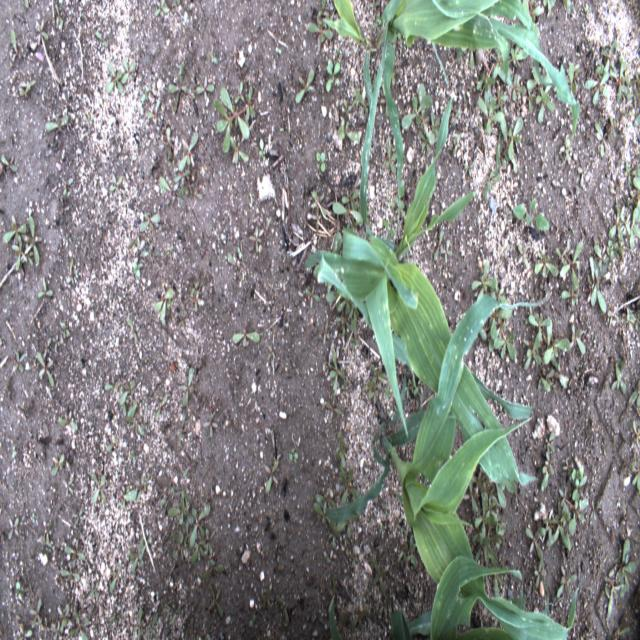crop: (303, 92, 538, 488), (317, 294, 580, 639), (322, 0, 580, 244), (390, 554, 550, 639), (327, 594, 342, 640)
weed: (213, 86, 255, 154), (313, 231, 342, 292), (608, 538, 636, 597), (559, 486, 589, 536), (488, 310, 517, 360), (545, 500, 571, 551), (474, 43, 494, 109), (490, 285, 514, 340), (512, 197, 550, 231), (474, 490, 496, 548), (558, 238, 582, 289), (484, 133, 501, 204), (401, 92, 432, 130), (484, 473, 517, 508), (499, 115, 524, 161), (168, 61, 189, 114), (478, 97, 506, 135), (418, 83, 435, 145), (21, 216, 42, 265), (306, 14, 333, 52), (188, 504, 210, 550), (604, 576, 628, 618), (610, 57, 630, 104), (584, 69, 609, 106), (543, 316, 560, 370), (590, 257, 606, 314), (232, 316, 260, 348), (535, 80, 555, 124), (170, 481, 193, 519), (330, 348, 348, 396), (526, 68, 550, 104), (338, 468, 360, 507), (475, 534, 503, 564), (544, 332, 570, 364), (153, 284, 173, 325), (159, 176, 186, 206), (521, 332, 542, 370), (470, 261, 496, 291), (162, 532, 188, 562), (313, 502, 337, 534), (2, 215, 27, 245), (371, 557, 389, 597), (333, 202, 364, 225), (180, 132, 198, 171), (388, 178, 406, 216), (462, 475, 480, 513), (523, 0, 540, 39), (64, 540, 86, 570), (474, 286, 486, 341), (582, 256, 596, 303), (36, 351, 54, 387), (296, 68, 314, 104), (600, 39, 618, 75), (608, 206, 624, 246), (228, 134, 249, 164), (11, 234, 28, 271), (557, 565, 576, 598), (129, 535, 145, 574), (525, 527, 543, 561), (105, 62, 124, 94), (539, 506, 555, 544), (70, 610, 90, 640), (549, 363, 569, 393), (528, 314, 551, 340), (179, 367, 194, 406), (492, 275, 509, 309), (90, 471, 106, 507), (535, 253, 558, 278), (489, 91, 508, 121), (352, 86, 367, 123), (167, 501, 190, 525), (174, 158, 190, 192), (568, 322, 585, 354), (594, 122, 609, 158), (196, 75, 215, 103), (506, 74, 525, 102), (335, 309, 353, 338), (509, 42, 529, 68), (315, 488, 335, 514), (178, 167, 194, 199), (344, 524, 360, 556), (208, 584, 223, 618), (202, 559, 224, 582), (264, 460, 278, 496), (593, 243, 607, 279), (57, 603, 72, 636), (190, 539, 208, 566), (561, 280, 579, 307), (385, 142, 400, 174), (326, 58, 340, 92), (492, 45, 505, 81), (626, 379, 640, 412), (120, 57, 136, 85), (612, 362, 626, 394), (45, 114, 68, 133), (326, 285, 344, 309), (61, 566, 80, 588), (338, 124, 360, 143), (120, 378, 136, 404), (342, 188, 358, 214), (491, 570, 504, 602), (162, 126, 172, 167), (630, 208, 640, 249), (630, 453, 640, 494), (58, 410, 78, 430), (310, 191, 326, 216), (139, 212, 160, 231), (187, 290, 205, 312), (29, 598, 42, 628), (203, 412, 218, 438), (572, 475, 587, 501), (120, 484, 136, 508), (528, 0, 544, 24), (351, 608, 368, 630), (36, 18, 49, 46), (109, 564, 122, 592), (276, 594, 289, 622), (626, 82, 640, 108), (471, 469, 485, 495), (10, 29, 21, 62), (126, 416, 144, 436), (336, 432, 346, 468), (133, 607, 144, 639), (453, 133, 464, 165), (126, 317, 139, 344), (154, 395, 168, 420), (136, 474, 148, 503), (568, 63, 575, 112), (476, 72, 495, 90), (542, 450, 555, 476), (66, 257, 78, 285), (484, 499, 498, 523), (534, 558, 545, 588), (371, 364, 386, 386), (440, 239, 453, 264), (204, 528, 216, 555), (250, 227, 262, 254), (325, 400, 342, 419), (50, 453, 64, 476), (258, 215, 272, 238), (306, 285, 320, 308), (37, 277, 53, 297), (524, 83, 534, 115), (524, 305, 540, 325), (41, 519, 53, 545), (493, 511, 505, 537), (433, 230, 443, 261), (147, 612, 158, 640), (22, 241, 34, 266), (8, 516, 20, 541), (110, 603, 122, 628), (630, 418, 640, 448), (406, 537, 416, 567), (337, 293, 352, 313), (105, 375, 118, 398), (349, 302, 359, 331), (154, 0, 171, 17), (606, 240, 623, 257), (109, 174, 122, 196), (147, 99, 160, 121), (418, 131, 431, 153), (537, 372, 550, 394), (347, 203, 358, 229), (371, 14, 386, 33), (606, 309, 620, 329), (338, 611, 348, 639), (619, 212, 631, 235), (187, 514, 198, 539), (624, 161, 635, 186), (1, 155, 18, 171), (542, 0, 556, 19), (382, 216, 394, 238), (349, 329, 361, 351), (369, 380, 380, 404), (472, 521, 484, 543), (634, 179, 640, 223), (12, 352, 25, 372), (540, 465, 550, 491), (517, 243, 528, 266), (578, 160, 587, 188), (555, 247, 567, 268), (170, 604, 181, 626), (364, 377, 375, 399), (140, 536, 152, 556), (228, 250, 240, 270), (260, 588, 272, 608), (414, 376, 426, 396), (72, 509, 85, 527), (431, 110, 440, 136), (234, 81, 244, 104), (545, 432, 555, 455), (312, 204, 321, 229), (51, 620, 62, 640), (63, 478, 74, 498), (59, 319, 70, 339), (62, 177, 73, 197), (330, 575, 340, 597), (119, 387, 126, 418), (378, 598, 390, 616), (328, 530, 340, 548), (18, 626, 33, 640), (40, 616, 50, 637), (623, 310, 634, 329), (55, 4, 64, 27), (321, 321, 330, 344), (317, 0, 329, 17), (127, 400, 137, 420), (609, 116, 618, 138), (95, 31, 108, 46), (258, 138, 266, 162), (632, 166, 640, 190), (316, 151, 325, 172), (562, 459, 573, 476), (571, 68, 579, 91), (479, 608, 487, 631), (609, 187, 618, 207), (544, 368, 554, 386), (403, 379, 412, 399), (397, 544, 407, 562), (183, 520, 190, 545), (89, 581, 99, 598), (267, 341, 275, 362), (469, 43, 475, 71), (450, 107, 461, 122), (34, 614, 43, 632), (343, 99, 352, 117), (589, 499, 596, 522), (20, 80, 36, 90), (43, 338, 51, 358), (186, 94, 194, 114), (106, 438, 118, 451), (16, 579, 23, 601), (132, 261, 141, 278), (52, 333, 60, 352), (563, 0, 573, 15), (289, 448, 298, 464), (595, 62, 607, 74), (205, 598, 212, 618), (208, 51, 218, 65), (627, 191, 637, 205), (540, 153, 548, 170), (349, 552, 358, 567), (564, 138, 570, 160), (572, 468, 582, 481), (142, 87, 150, 103), (465, 162, 474, 176), (625, 103, 632, 121), (630, 72, 639, 86), (19, 87, 29, 99), (408, 377, 416, 392), (406, 576, 413, 592), (190, 282, 199, 294), (537, 251, 546, 263), (249, 614, 256, 629), (369, 0, 379, 10), (325, 360, 332, 374), (334, 48, 343, 58), (633, 112, 639, 127), (192, 191, 203, 199), (324, 550, 331, 562), (569, 223, 575, 236), (30, 512, 36, 523), (274, 47, 282, 55), (635, 314, 639, 330), (237, 246, 242, 258), (583, 3, 589, 13), (59, 0, 69, 5), (385, 502, 388, 515), (379, 523, 382, 535), (45, 547, 52, 552), (270, 519, 275, 526), (24, 0, 28, 8), (68, 291, 70, 307), (294, 478, 298, 486), (575, 52, 580, 58), (0, 336, 2, 345), (280, 127, 284, 131)
